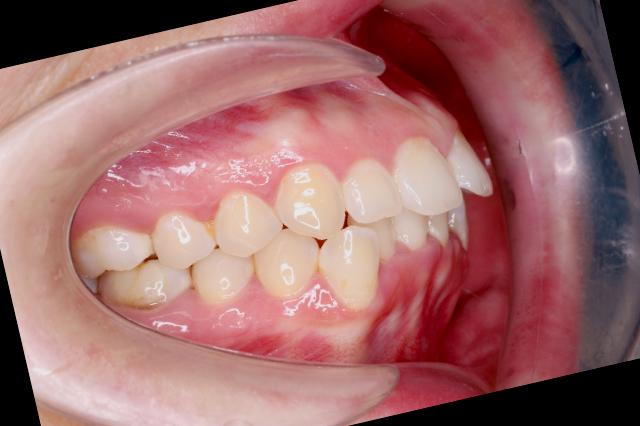canine class II 1/4: (229, 146, 389, 334)
molar class III 1/2: (62, 202, 198, 330)
